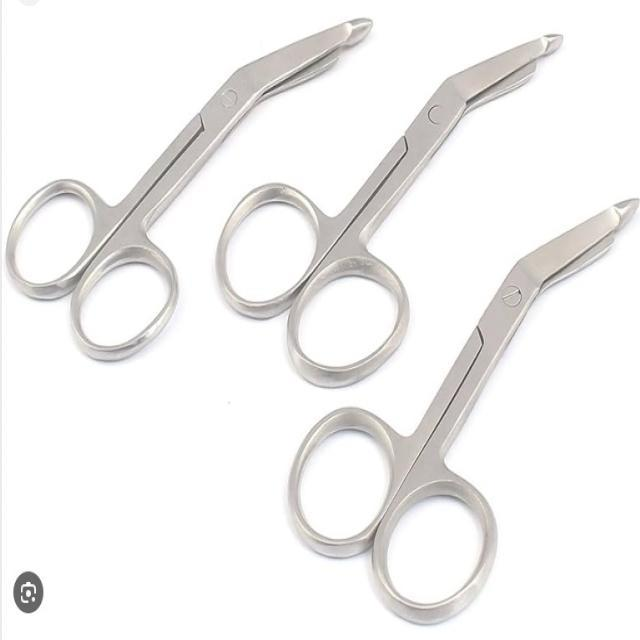Bandage Sciccors: (284, 185, 640, 628), (215, 25, 568, 389), (9, 8, 368, 360)
